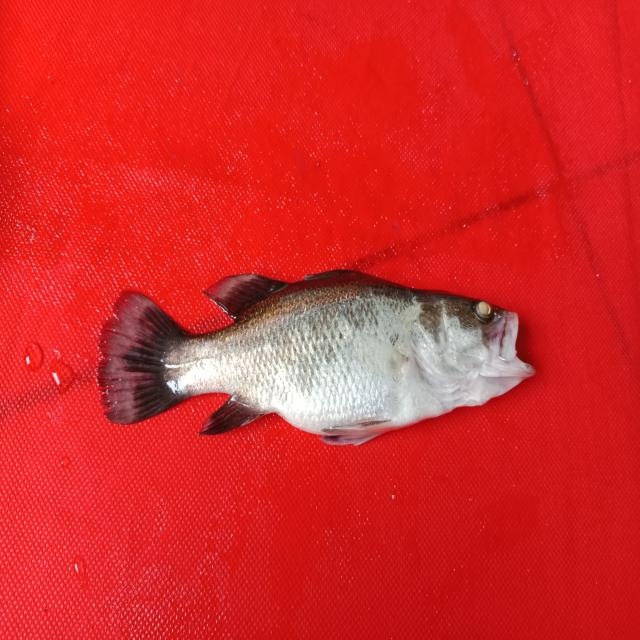ikan: (83, 200, 556, 470)
